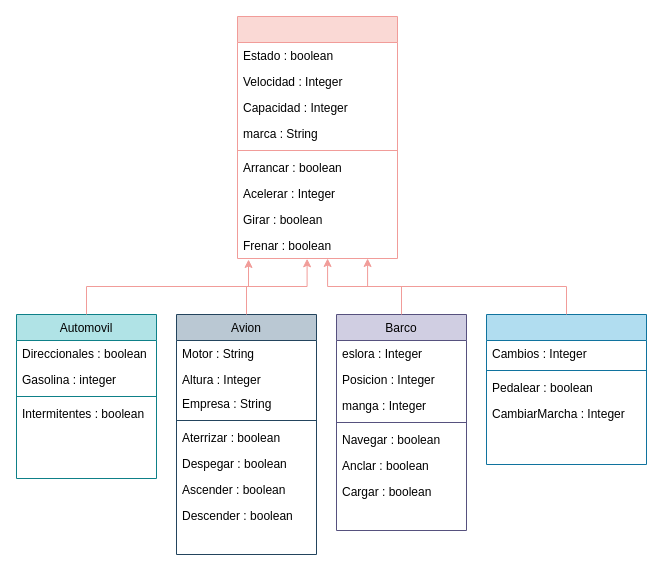
The diagram is 663 pixels wide and 571 high, and some of its shapes have lost their labels. The shapes that lost their labels are listed below. From the top down, each one's box as (x1, y1, x2, y2) in pixels, then its label:
(236, 16, 398, 258): Transporte
(486, 314, 646, 464): Bicicleta
